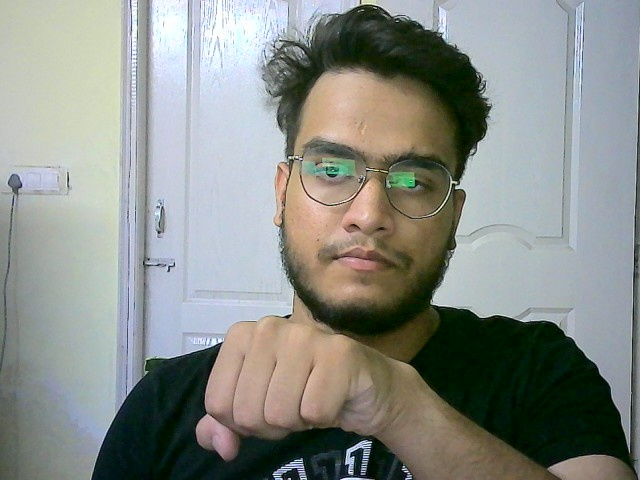Yes: (200, 309, 415, 465)
